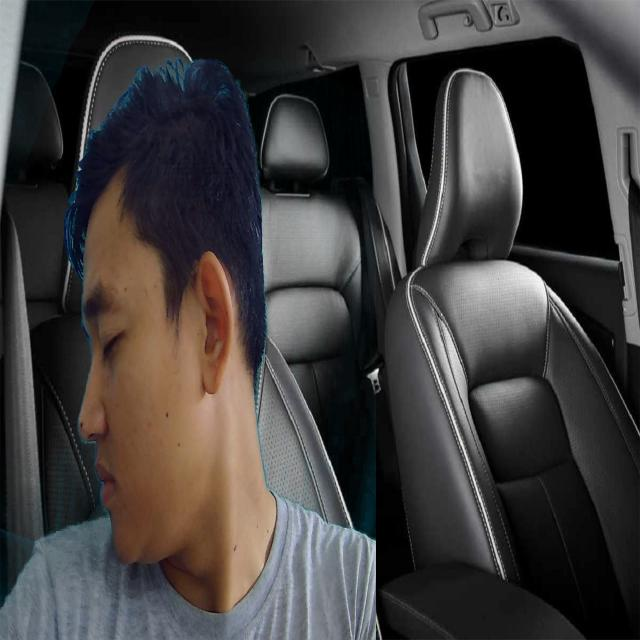no-seatbelt: (66, 137, 216, 570)
